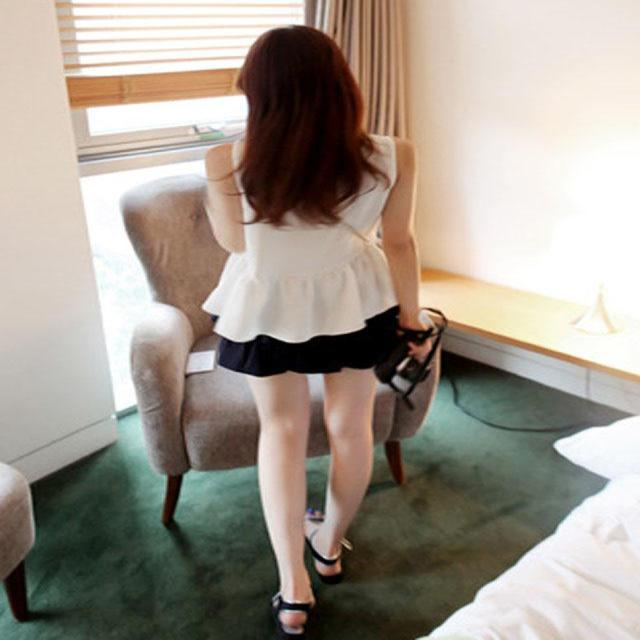skirt: (216, 282, 397, 375)
vest: (201, 135, 403, 341)
